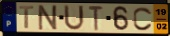6: (112, 5, 131, 33)
C: (133, 6, 154, 32)
N: (37, 4, 60, 31)
T: (88, 5, 105, 32), (18, 5, 36, 30)
U: (63, 4, 86, 32)
